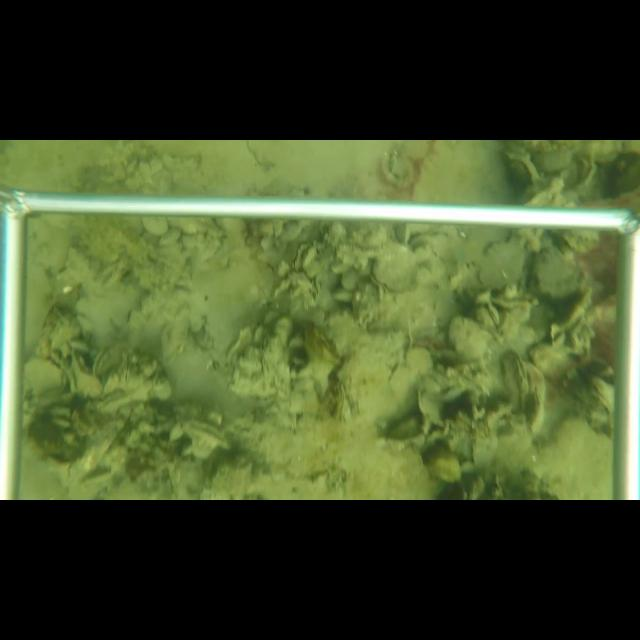Oyster-Closed: (546, 288, 594, 342), (452, 313, 494, 358), (25, 357, 68, 400)
Oyster-Open: (369, 240, 418, 295), (499, 345, 529, 411), (91, 344, 118, 378), (294, 243, 318, 270)
